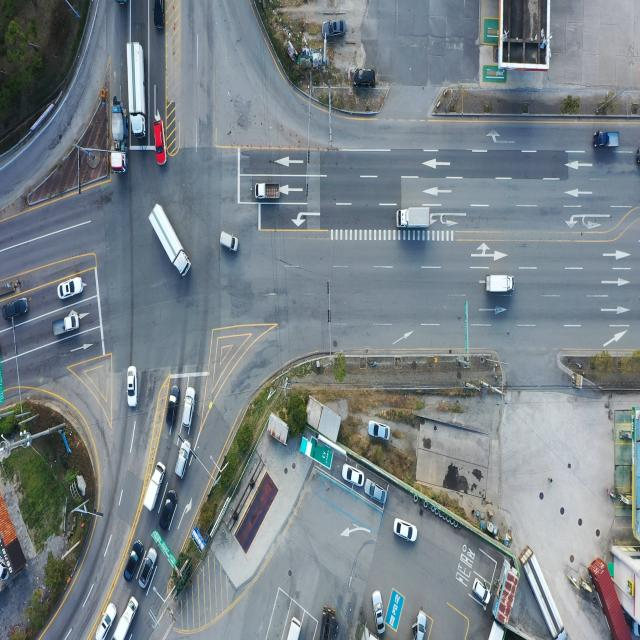car: (94, 603, 117, 640), (140, 547, 158, 590), (165, 384, 179, 434), (175, 439, 192, 480), (152, 119, 166, 168), (126, 543, 143, 583), (159, 493, 176, 532), (373, 590, 387, 634), (59, 277, 84, 300), (3, 300, 29, 322), (364, 480, 386, 506), (182, 387, 195, 428), (394, 520, 416, 543), (343, 464, 365, 487), (474, 578, 492, 606), (369, 420, 391, 441), (128, 367, 139, 408), (221, 233, 240, 255), (323, 20, 346, 38), (353, 68, 376, 86), (414, 612, 427, 640), (156, 0, 168, 30)
medium_truck: (523, 548, 568, 640), (148, 201, 189, 277), (128, 40, 148, 134), (112, 104, 129, 173), (396, 207, 433, 231), (321, 607, 337, 640)
small_bus: (282, 618, 302, 640)
small_truck: (144, 460, 166, 512), (114, 595, 138, 639), (53, 313, 79, 337), (486, 274, 514, 295), (594, 132, 620, 150), (257, 185, 282, 203)
